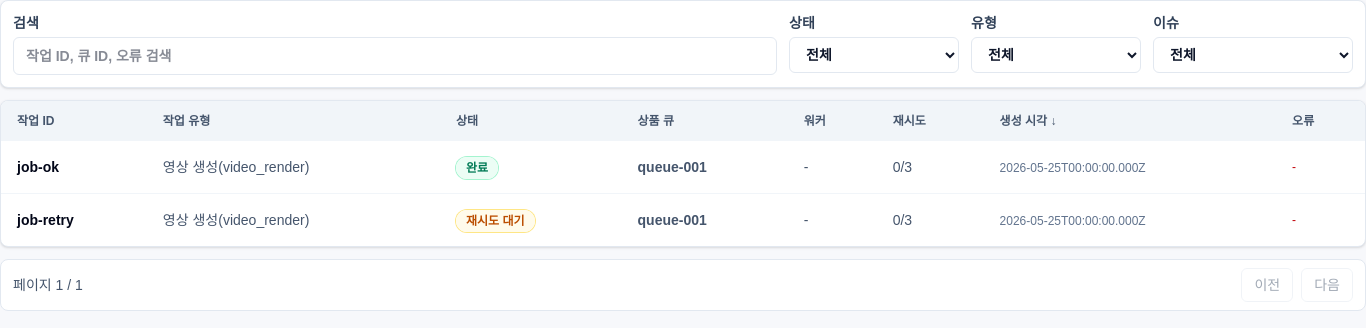
Test: TanStack table upgrades › filters jobs table by status
Select "재시도 대기" in the dropdown labelled "상태" at (874, 55), box [789, 37, 959, 73]
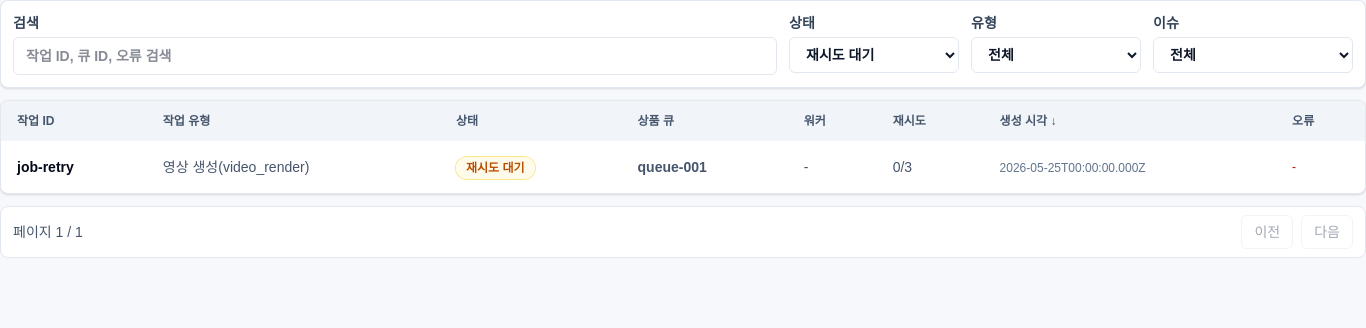
Check: the text "job-retry" is shown, box [17, 159, 74, 175]
Check: the text "job-ok" is gone
